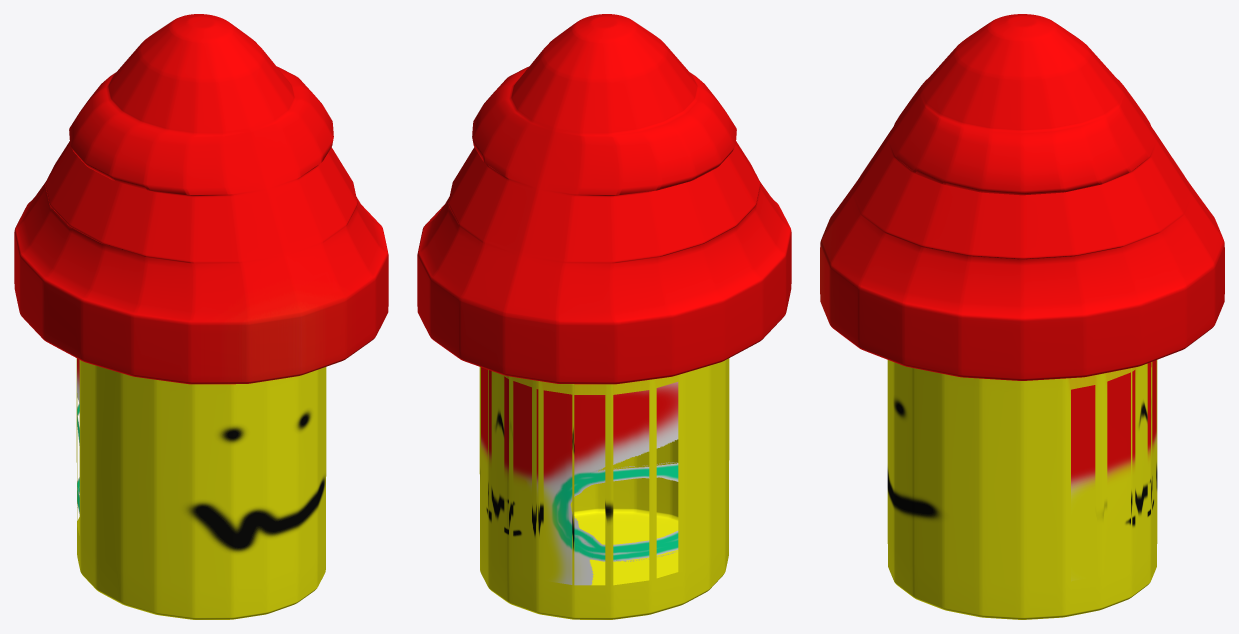
The model's file is kinoko.fbx.
3 views of the same model, side by side, from view 1: azimuth 30°, elevation 25°; view 2: azimuth 150°, elevation 25°; view 3: azimuth 270°, elevation 25° (orthographic).
Parts seen in each view (by area): view 1: pCylinder1; view 2: pCylinder1; view 3: pCylinder1.
Boxes of the visible parts, x1,y1,x2,y2 form: pCylinder1: (14,14,388,619); pCylinder1: (417,14,791,619); pCylinder1: (820,14,1224,619).
Bounding box in the file's own units: 1.01 × 1.66 × 1.11.
Materials: 1 (1 with a texture image).
